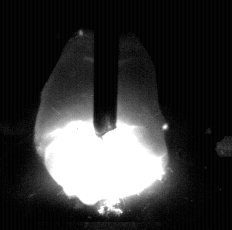arame: (94, 0, 118, 136)
poca: (34, 0, 166, 230)
